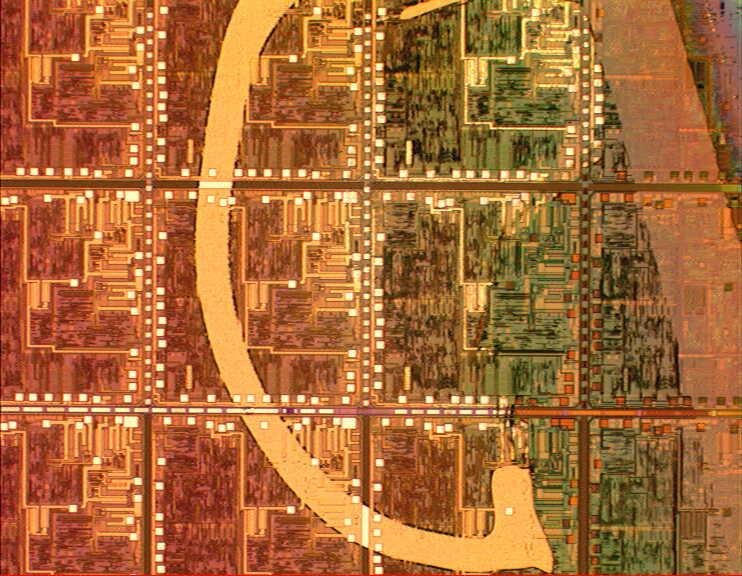COATING BAD: (195, 1, 742, 575)
